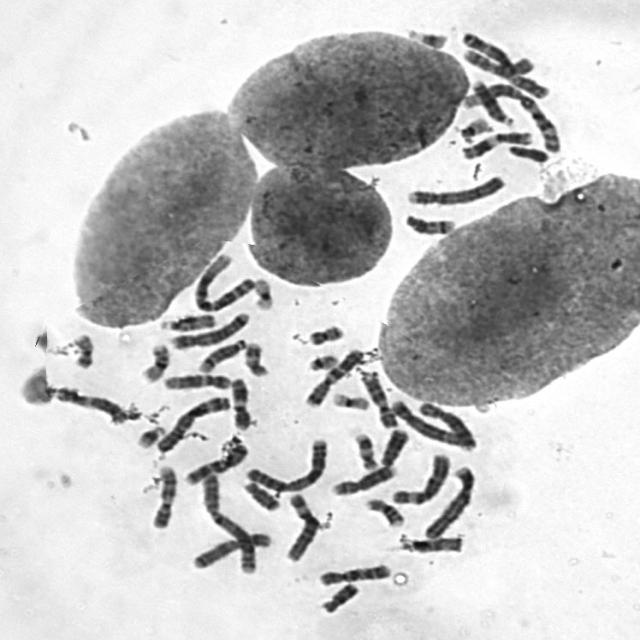A1: (461, 76, 565, 154), (188, 248, 258, 314)
A2: (196, 469, 258, 576), (240, 433, 330, 493)
A3: (457, 26, 553, 100), (150, 391, 232, 453)
B4: (418, 460, 478, 540), (401, 169, 508, 207)
B5: (384, 394, 478, 450), (166, 306, 252, 351)
C10: (456, 44, 536, 77), (312, 559, 394, 587)
C11: (458, 126, 536, 160), (226, 372, 252, 432)
C12: (48, 382, 127, 427), (157, 368, 233, 392)
C6: (387, 449, 452, 506), (278, 488, 323, 562)
C7: (300, 344, 367, 408), (179, 438, 251, 486)
C8: (412, 396, 478, 452), (326, 461, 399, 496)
C9: (354, 365, 400, 430), (144, 459, 178, 530)
D13: (464, 74, 518, 128), (374, 424, 412, 468)
D14: (192, 334, 250, 374), (398, 209, 458, 236)
D15: (154, 308, 217, 332), (398, 532, 466, 554)
E16: (135, 338, 171, 383), (361, 493, 406, 528)
E17: (349, 428, 380, 472), (239, 338, 270, 378)
E18: (316, 578, 362, 614), (237, 477, 282, 512)
F19: (247, 272, 275, 312), (327, 387, 371, 412)
F20: (67, 328, 96, 370), (302, 319, 347, 346)
G21: (402, 23, 450, 51), (130, 420, 167, 450)
G22: (454, 112, 493, 144), (303, 349, 340, 372)
X: (186, 527, 274, 571)
Y: (502, 140, 551, 162)
